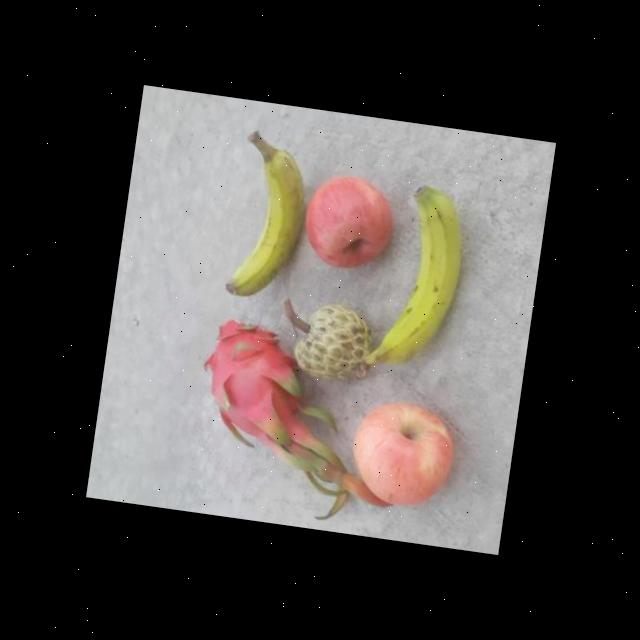Sakya fruit: (286, 299, 376, 384)
apple: (342, 390, 466, 515), (296, 170, 404, 276)
banana: (354, 174, 472, 385), (222, 128, 316, 308)
pitaya: (186, 313, 318, 455)
